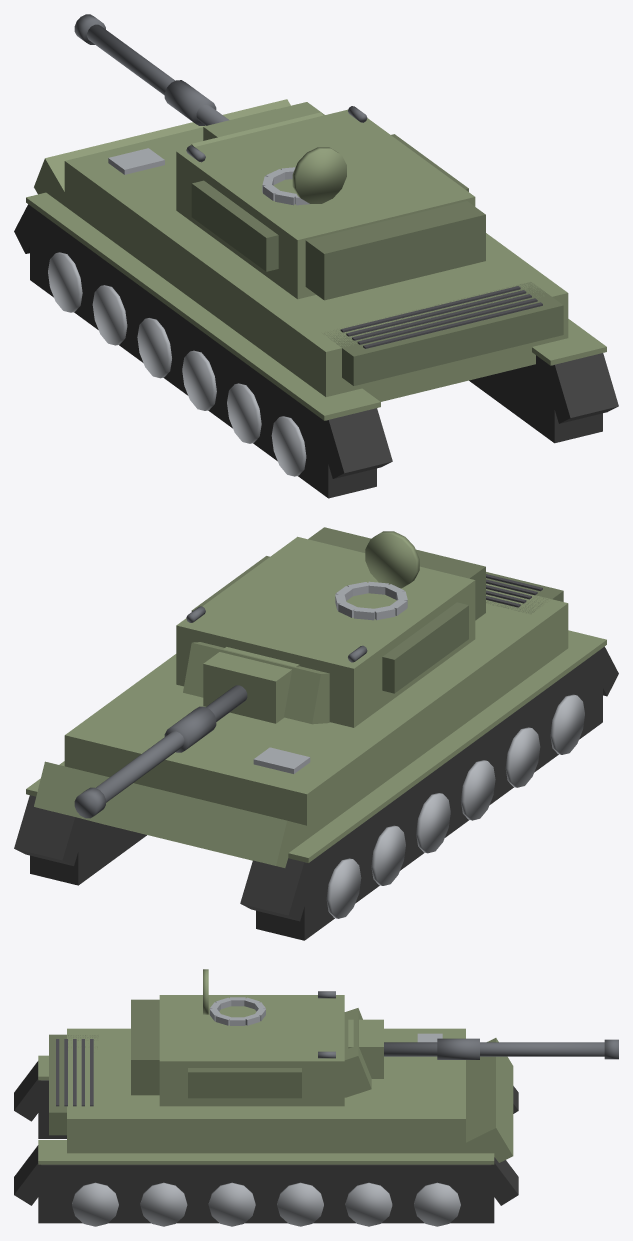
File: tank.gltf
The picture shows the model from 3 angles, top to bottom: view 1: azimuth 30°, elevation 25°; view 2: azimuth 150°, elevation 25°; view 3: azimuth 270°, elevation 25°; orthographic projection. The views are drawn at different scales.
Parts seen in each view (by area): view 1: tank; view 2: tank; view 3: tank.
Boxes of the visible parts, x1,y1,x2,y2 form: tank: (14,14,618,498); tank: (14,527,618,940); tank: (14,969,618,1226).
Bounding box in the file's own units: 3.5 × 2.93 × 8.49.
